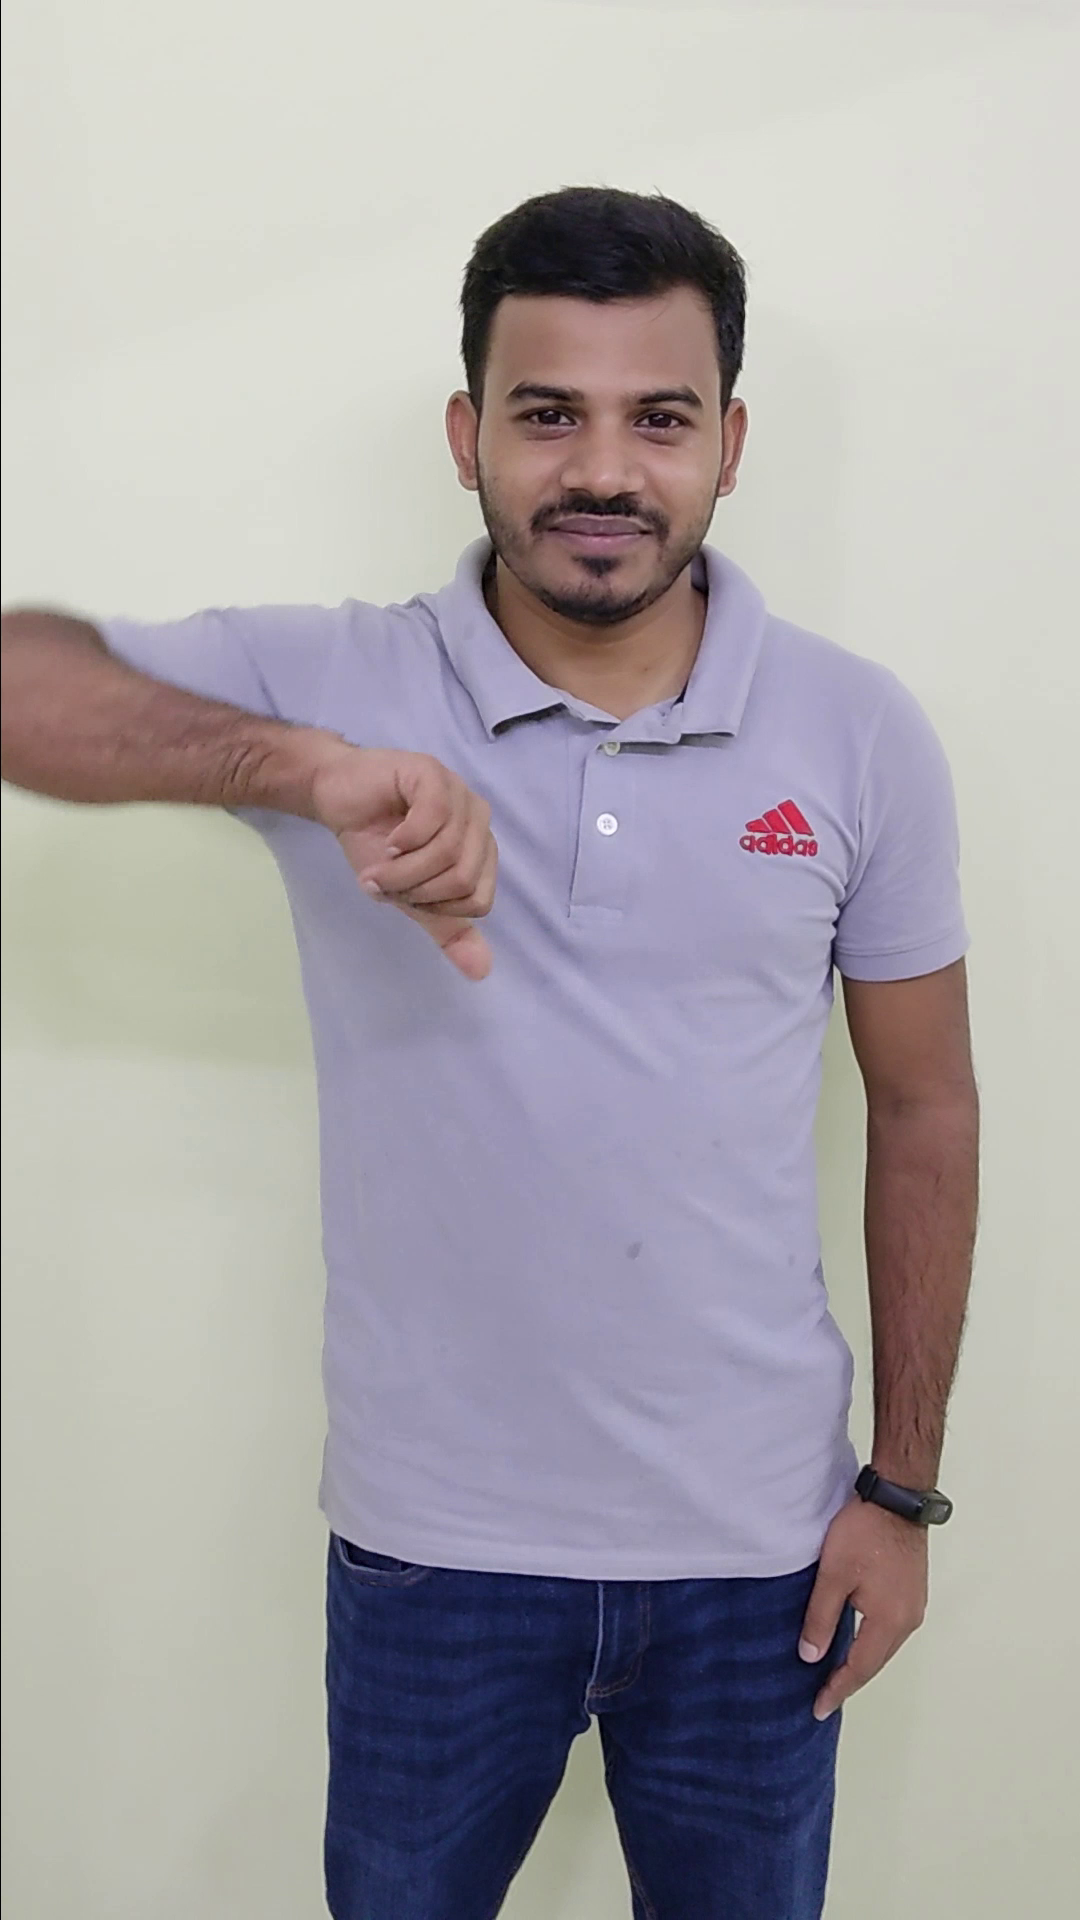Dislike: (305, 707, 512, 997)
None: (778, 1445, 967, 1738)
